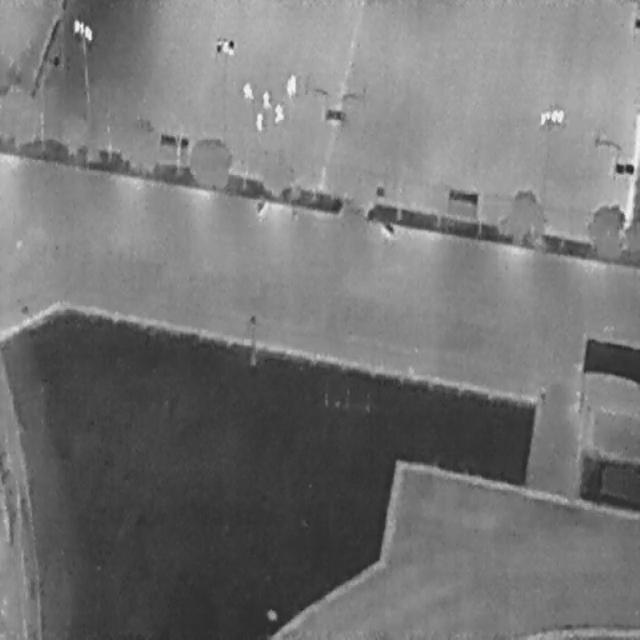Person: (242, 81, 254, 100), (274, 102, 283, 124), (261, 90, 270, 110), (254, 111, 263, 131), (289, 72, 296, 92), (285, 77, 292, 96)
